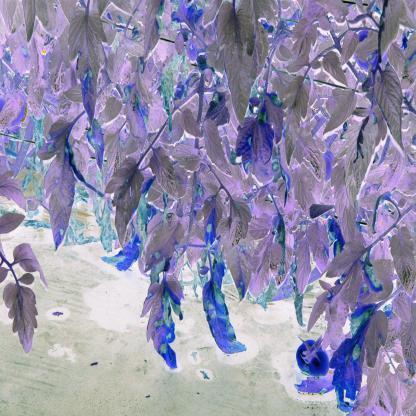Tomato Early blight leaf: (335, 296, 390, 405), (39, 106, 79, 253), (66, 0, 113, 124), (197, 268, 247, 378), (146, 276, 186, 377), (125, 58, 156, 152), (235, 120, 277, 179), (304, 218, 334, 283), (171, 7, 209, 58), (204, 188, 224, 249), (83, 118, 107, 166)
Tomato leaf bacterial spot: (3, 280, 42, 354), (376, 66, 404, 148), (199, 121, 233, 178), (284, 78, 304, 170), (390, 228, 416, 298), (148, 146, 180, 202), (324, 91, 354, 134), (320, 54, 352, 90)
